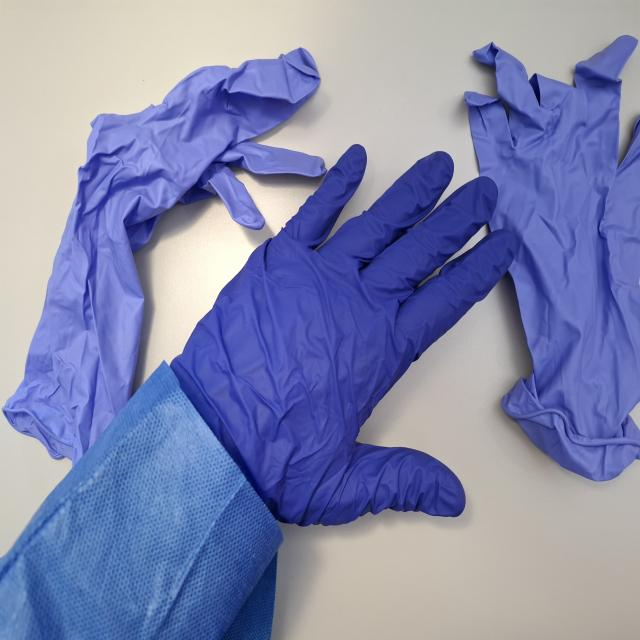glove_on: (169, 139, 521, 532)
